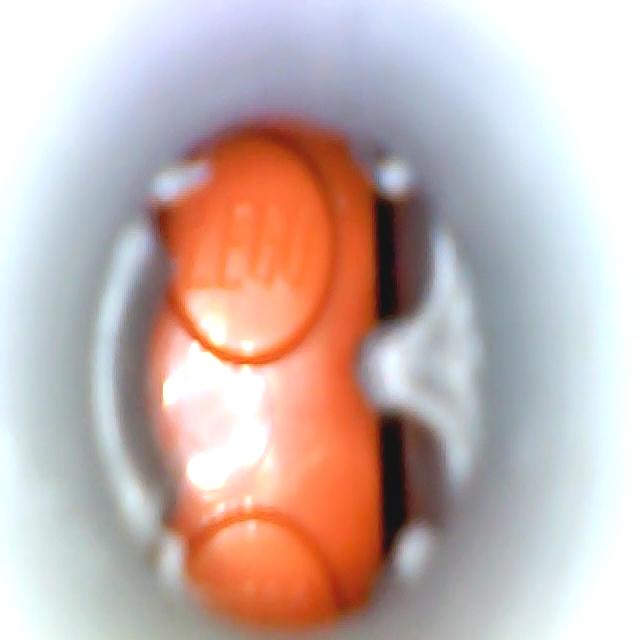studs: (160, 137, 336, 363), (189, 516, 337, 624)
